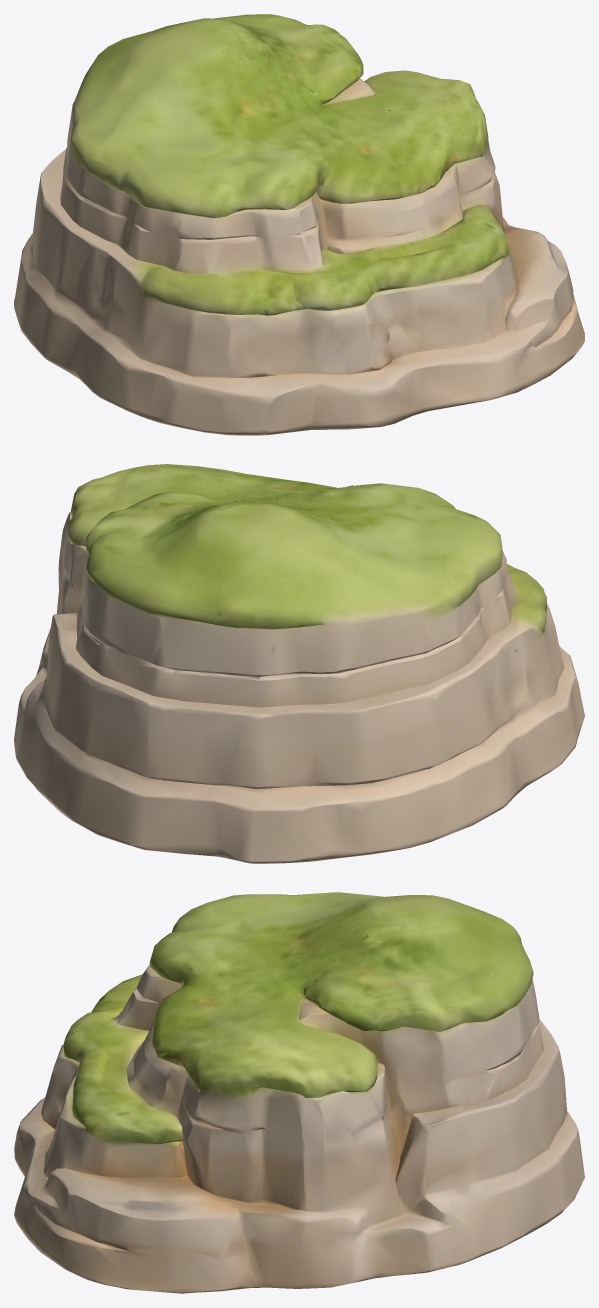
File: cliff-rock-mobile.glb
3 views of the same model, one above another, from view 1: azimuth 30°, elevation 25°; view 2: azimuth 150°, elevation 25°; view 3: azimuth 270°, elevation 25° (orthographic). The views are drawn at different scales.
Visible parts, largest first — view 1: model; view 2: model; view 3: model.
Boxes of the visible parts, <box> form: model: <box>14,14,584,435</box>; model: <box>14,464,584,863</box>; model: <box>14,892,584,1293</box>.
Size of the model in its own units: 1.76 by 0.9487 by 1.9.
1 material, 1 textured.
